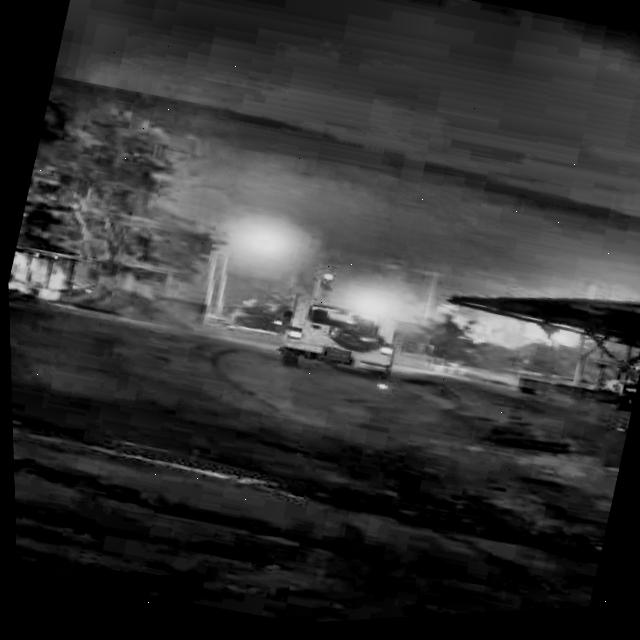light_vehicle: (261, 287, 411, 392)
